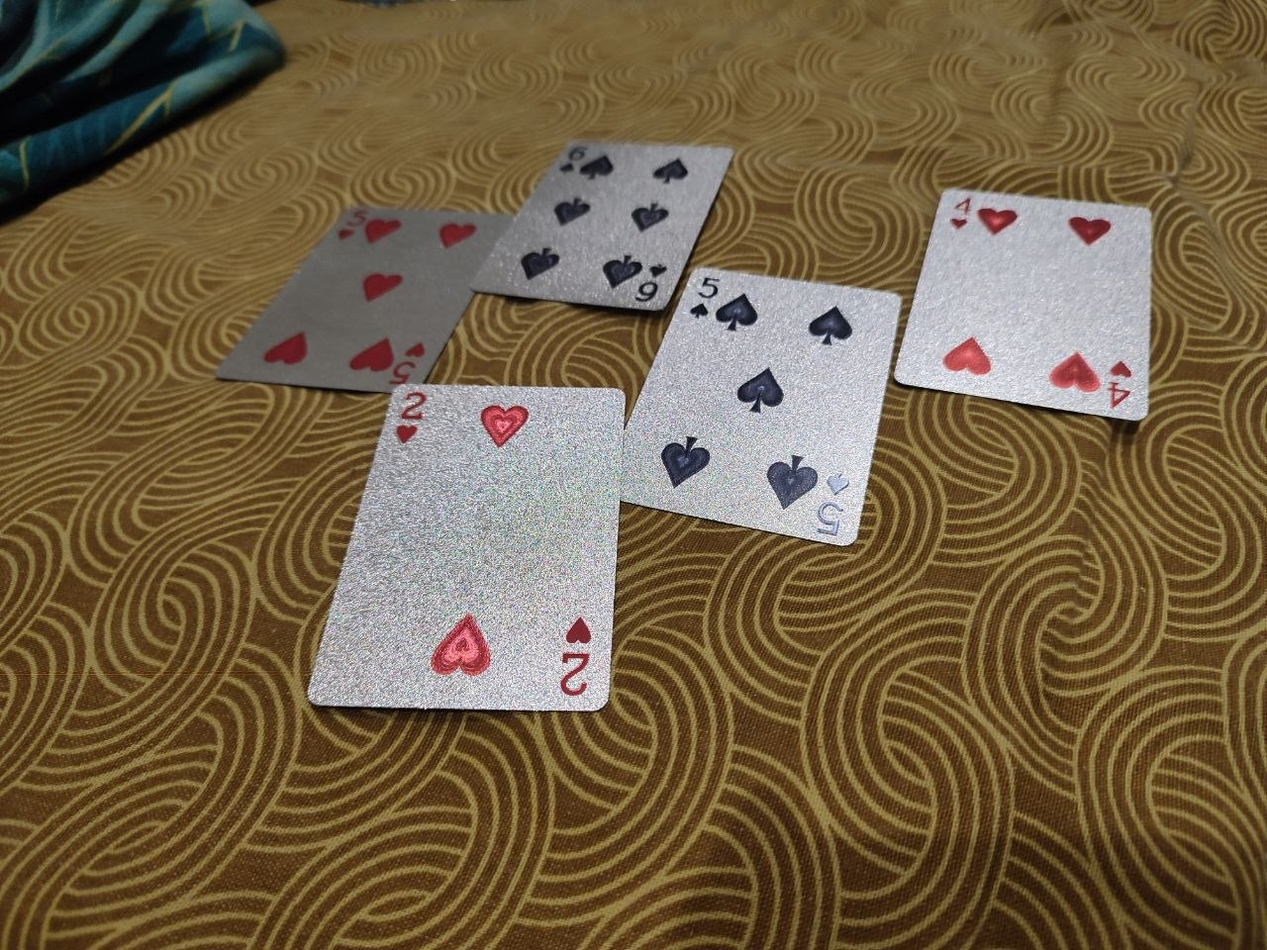2H: (305, 382, 627, 713)
4H: (891, 186, 1155, 421)
5H: (212, 204, 515, 394)
5S: (621, 265, 903, 546)
6S: (467, 136, 735, 311)
